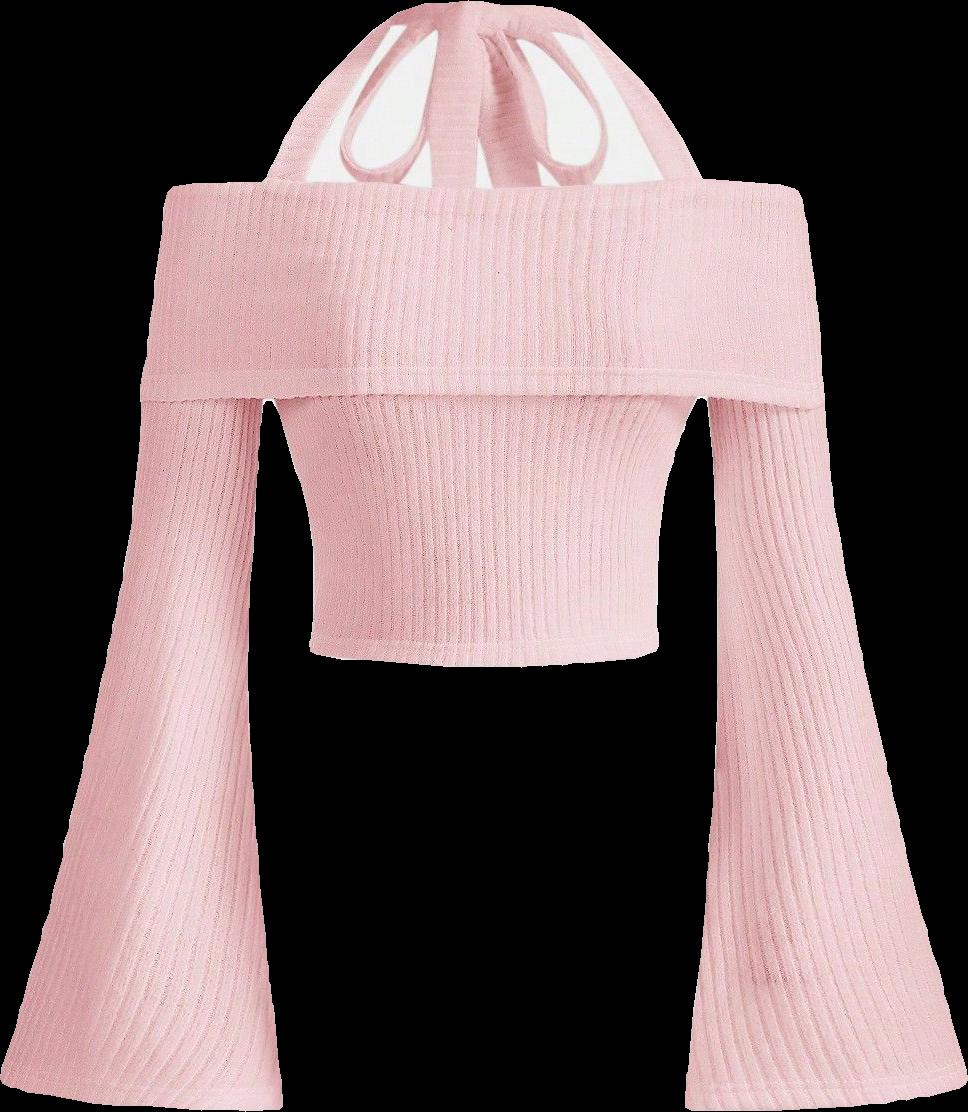Bodice: (139, 176, 825, 666)
Neckline: (160, 175, 799, 203)
Sleeve: (685, 396, 967, 1108), (1, 398, 282, 1109)
Sleeveline: (136, 384, 270, 405), (702, 388, 831, 409)
Waistline: (132, 386, 831, 413), (303, 640, 666, 673)
